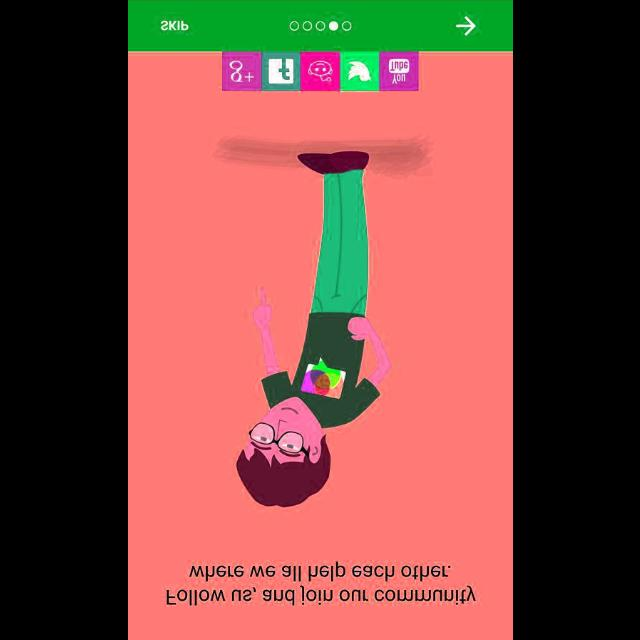icon: (222, 52, 262, 90), (261, 52, 299, 90), (340, 52, 378, 90), (454, 16, 476, 36)
image: (211, 135, 431, 508), (300, 52, 340, 90), (378, 52, 418, 90)
pageindicator: (289, 21, 351, 31)
text: (166, 561, 474, 605), (160, 20, 188, 30)
